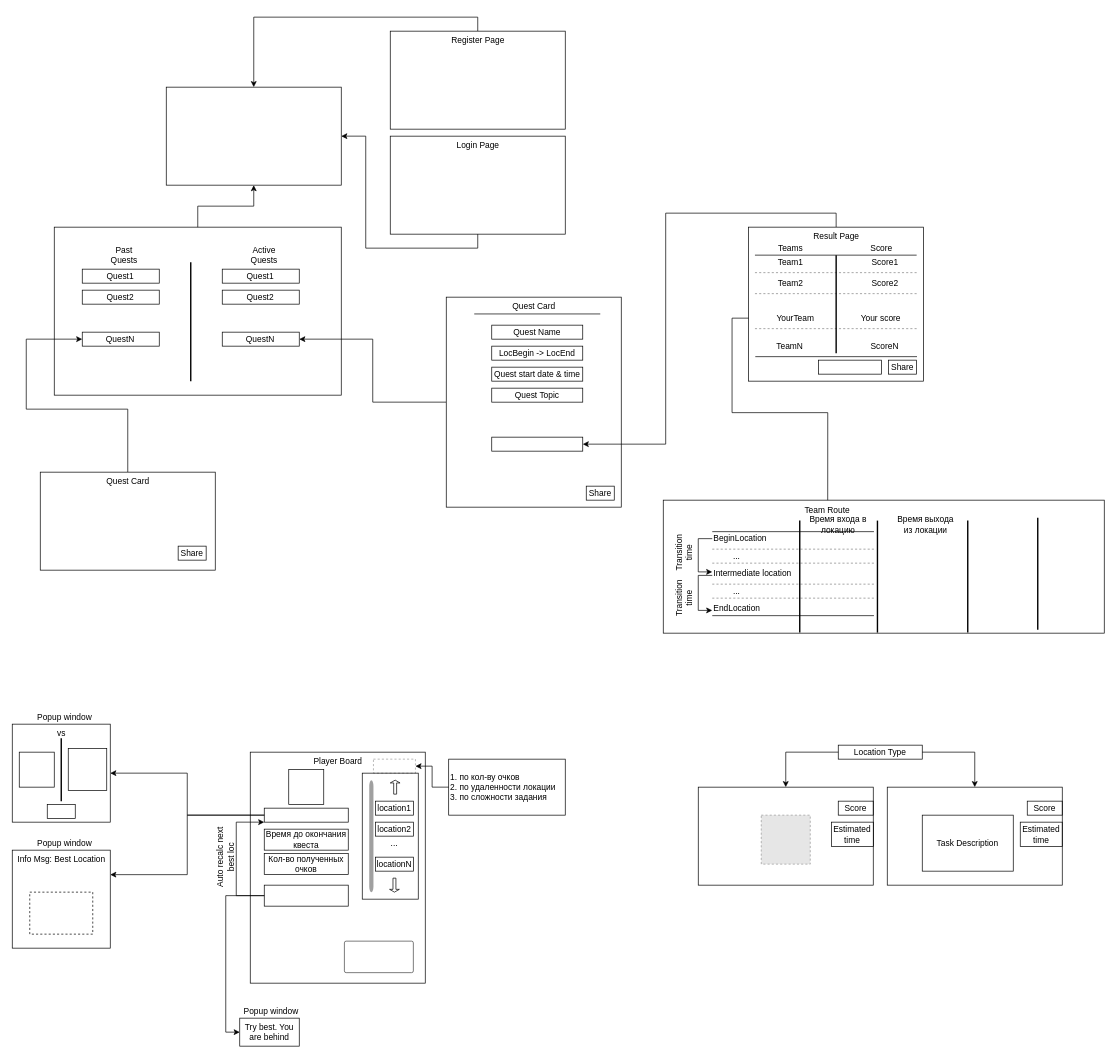
Image size: 1117x1058. Some labels were removed from this diagram. Grey dashed boxes stand in for pictures. Each missing label, with the box of its shape:
+Score: (47, 804, 75, 819)
Current next location: (19, 751, 54, 787)
Enter QR code (to complete task):: (344, 940, 413, 973)
Get next best location: (264, 807, 348, 822)
It`s ok, you are doing well: (29, 891, 93, 934)
Location Card | Known task: (887, 786, 1062, 885)
Location Card | Unknown Task: (698, 786, 873, 885)
Main menu: (818, 359, 882, 374)
Main Page: (166, 86, 341, 185)
New next best location: (68, 748, 107, 791)
Next Location: (288, 769, 324, 805)
Quest Board: (54, 226, 341, 395)
Results: (491, 436, 583, 451)
Sort by:: (373, 758, 415, 773)
Оценочное время до завершения задания: (264, 884, 348, 906)
